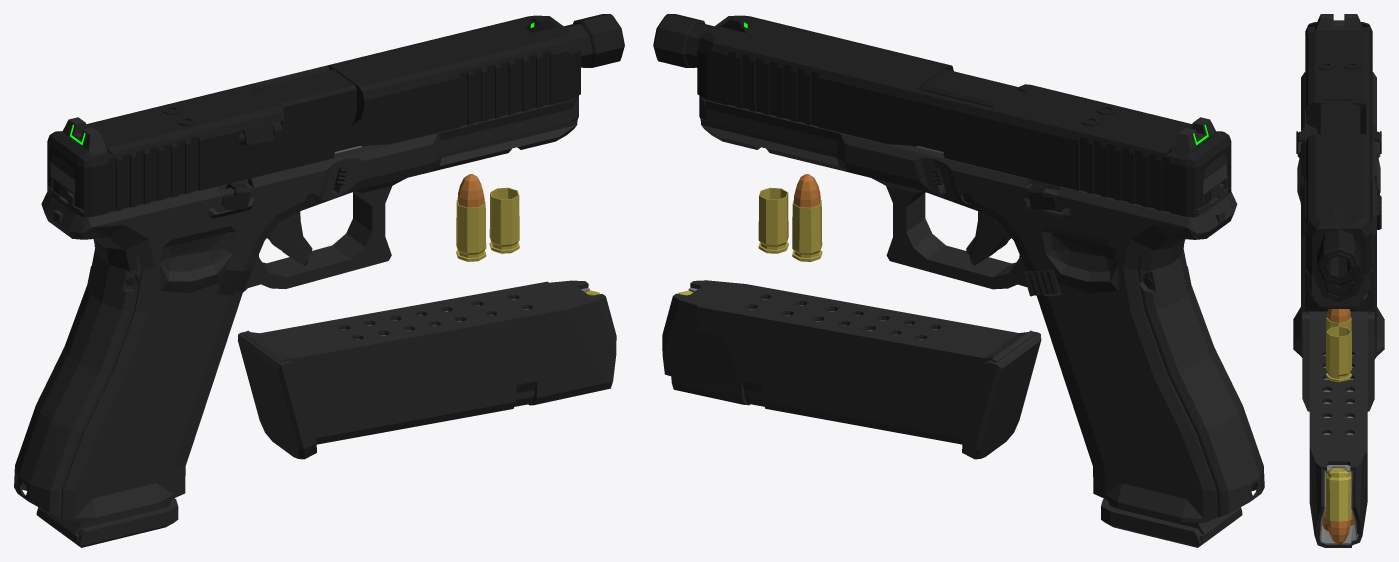
The picture shows the model from 3 angles, left to right: view 1: azimuth 30°, elevation 25°; view 2: azimuth 150°, elevation 25°; view 3: azimuth 270°, elevation 25°; orthographic projection. The views are drawn at different scales.
Visible parts, largest first — view 1: g17g5 frame_3, g17 17rnd mag_2, g17g5mos slide_0, g17g5mos cover_8, g17 barrel threaded_1, g17 17rnd empty mag_4, 919 case_6, g17 muzzle nut_7, Object_22, g17 trigga_9, Object_23; view 2: g17g5 frame_3, g17 17rnd mag_2, g17g5mos slide_0, g17g5mos cover_8, g17 17rnd empty mag_4, g17 barrel threaded_1, 919 case_6, g17 muzzle nut_7, Object_22, g17 trigga_9, Object_23; view 3: g17 17rnd mag_2, g17g5mos slide_0, g17g5 frame_3, g17g5mos cover_8, g17 barrel threaded_1, 919 case_6, g17 muzzle nut_7, Object_23, g17g5 slide stop_10, Object_22.
Boxes of the visible parts, box(x1,y1,x2,y2) form: g17g5 frame_3: box(14, 95, 578, 522); g17 17rnd mag_2: box(237, 280, 616, 459); g17g5mos slide_0: box(47, 15, 580, 217); g17g5mos cover_8: box(86, 91, 258, 163); g17 barrel threaded_1: box(254, 23, 593, 138); g17 17rnd empty mag_4: box(36, 179, 247, 547); 919 case_6: box(489, 187, 519, 253); g17 muzzle nut_7: box(573, 14, 624, 67); Object_22: box(456, 200, 486, 261); g17 trigga_9: box(267, 211, 312, 265); Object_23: box(457, 174, 484, 207); g17g5 frame_3: box(699, 95, 1264, 522); g17 17rnd mag_2: box(662, 280, 1041, 459); g17g5mos slide_0: box(697, 15, 1231, 217); g17g5mos cover_8: box(1019, 91, 1192, 163); g17 17rnd empty mag_4: box(1030, 179, 1242, 547); g17 barrel threaded_1: box(685, 24, 1023, 107); 919 case_6: box(758, 187, 788, 253); g17 muzzle nut_7: box(653, 14, 705, 67); Object_22: box(792, 200, 822, 261); g17 trigga_9: box(966, 211, 1011, 266); Object_23: box(793, 174, 820, 207); g17 17rnd mag_2: box(1302, 311, 1374, 547); g17g5mos slide_0: box(1305, 14, 1372, 301); g17g5 frame_3: box(1293, 72, 1384, 359); g17g5mos cover_8: box(1305, 32, 1372, 98); g17 barrel threaded_1: box(1318, 100, 1360, 280); 919 case_6: box(1326, 326, 1351, 382); g17 muzzle nut_7: box(1317, 234, 1360, 285); Object_23: box(1327, 309, 1350, 322); g17g5 slide stop_10: box(1296, 131, 1381, 153); Object_22: box(1326, 317, 1351, 346).
Bounding box in the file's own units: 2.18 × 1.42 × 0.3481.
